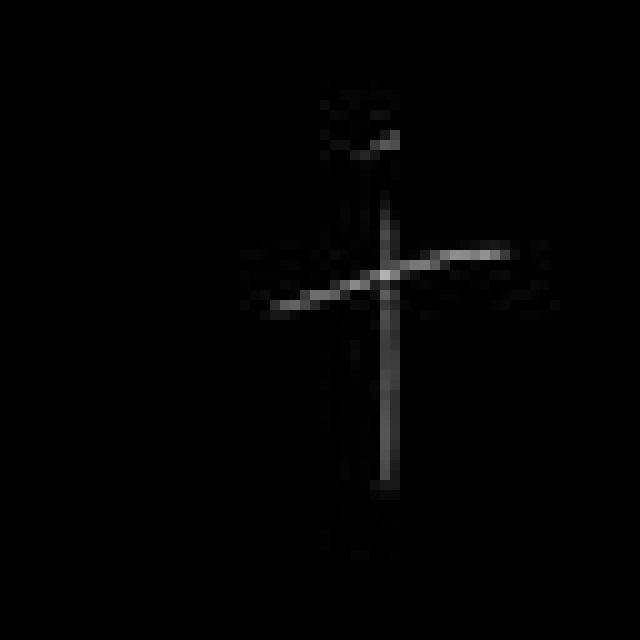1000 -a thousand-: (269, 118, 511, 491)
